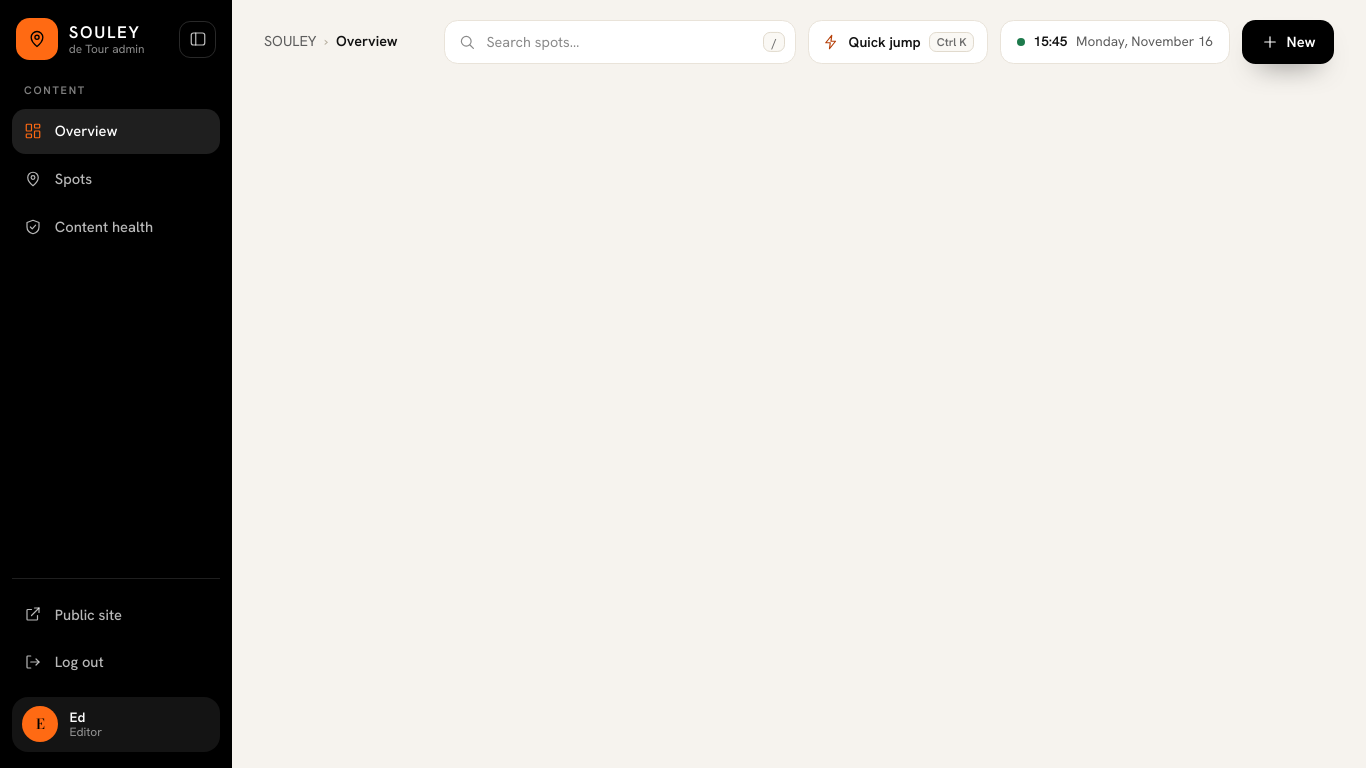
Test case: AdminLayout › the sidebar can be collapsed to icons and the choice is remembered
Later steps or results of the test are not shown.
Click the button named "Collapse sidebar" at (198, 39), box [179, 21, 216, 58]
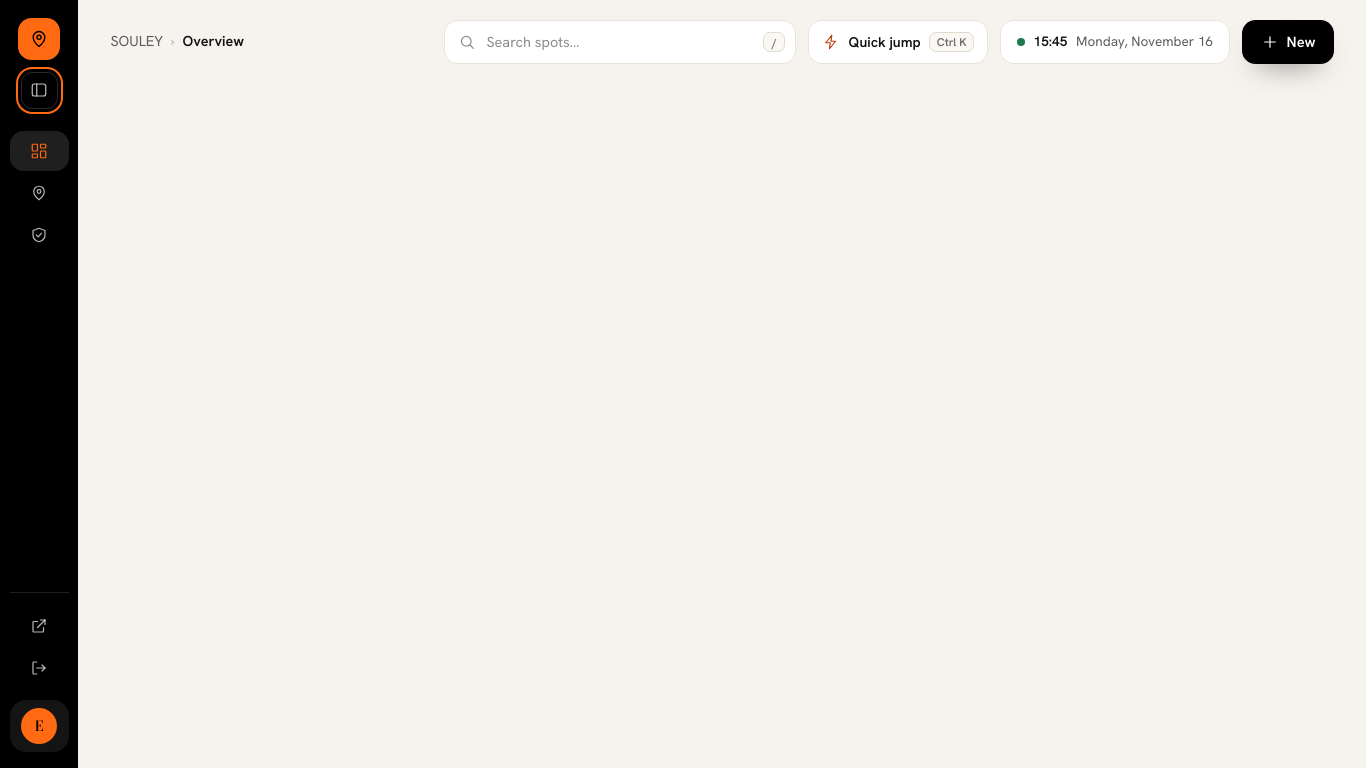
Expected: the element with class "adm-shell" has class "is-collapsed"
Expected: the button named "Expand sidebar" is pressed, [21, 72, 58, 109]
